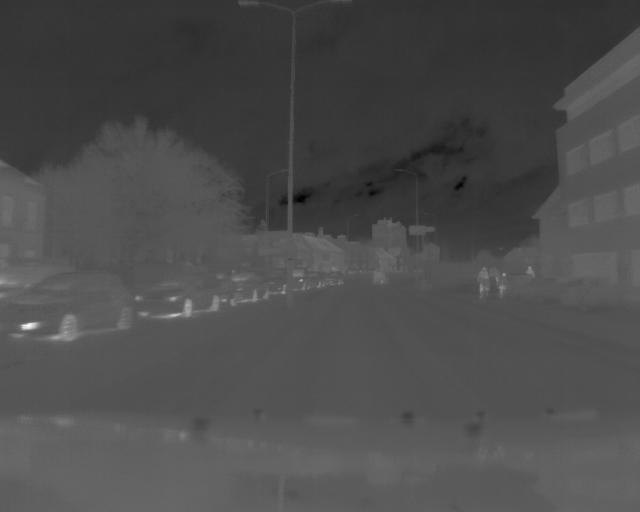car: (3, 266, 138, 343), (135, 264, 221, 323), (218, 269, 272, 308)
person: (473, 264, 492, 305), (496, 267, 511, 302)
